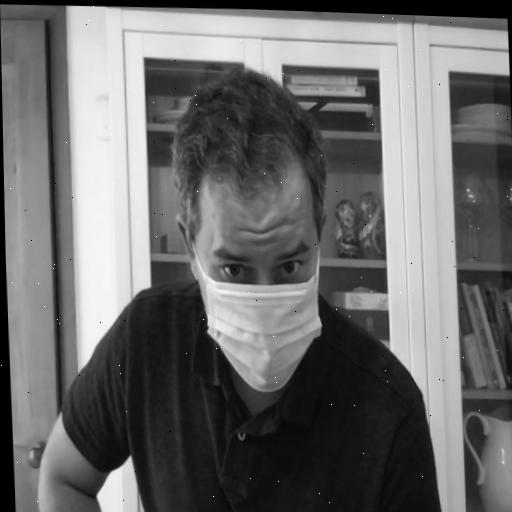mask: (166, 64, 334, 399)
